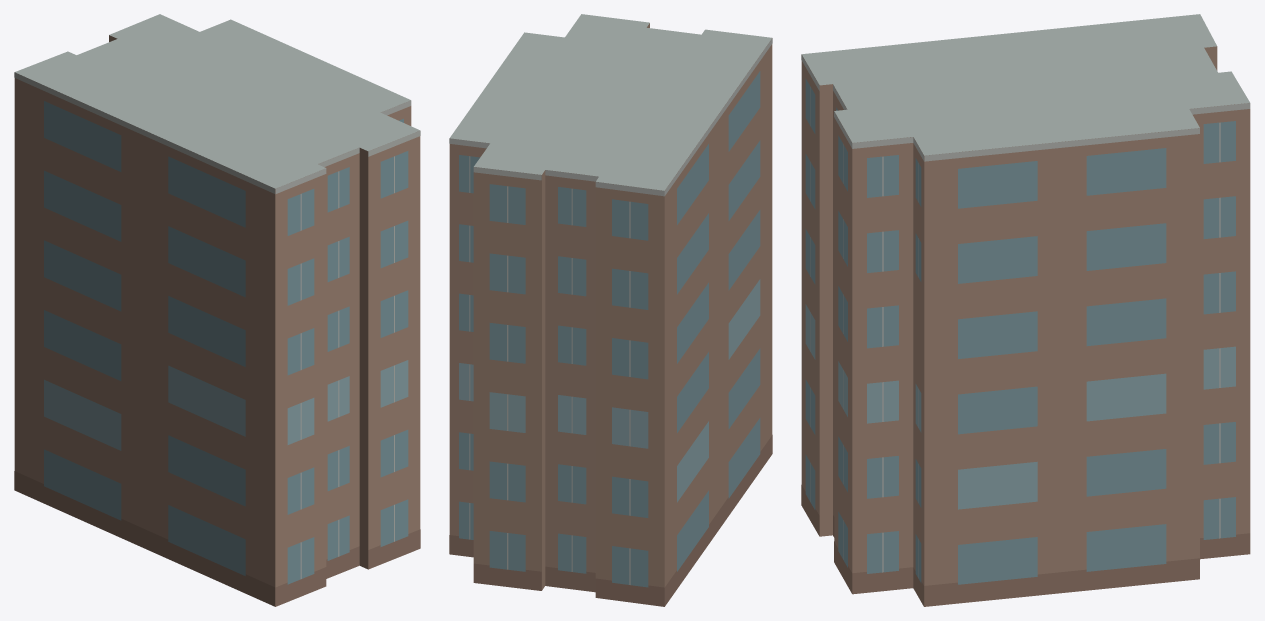
Rendered from survey-upis-33028120.glb.
3 views of the same model, side by side, from view 1: azimuth 30°, elevation 25°; view 2: azimuth 150°, elevation 25°; view 3: azimuth 270°, elevation 25° (orthographic). The views are drawn at different scales.
Visible parts, largest first — view 1: survey-upis-33028120.tmp; view 2: survey-upis-33028120.tmp; view 3: survey-upis-33028120.tmp.
Part boxes in pixels (bbox=[...]): survey-upis-33028120.tmp: bbox=[14, 14, 420, 606]; survey-upis-33028120.tmp: bbox=[449, 14, 772, 606]; survey-upis-33028120.tmp: bbox=[801, 14, 1250, 606].
Bounding box in the file's own units: 12.32 × 18.3 × 16.5.
